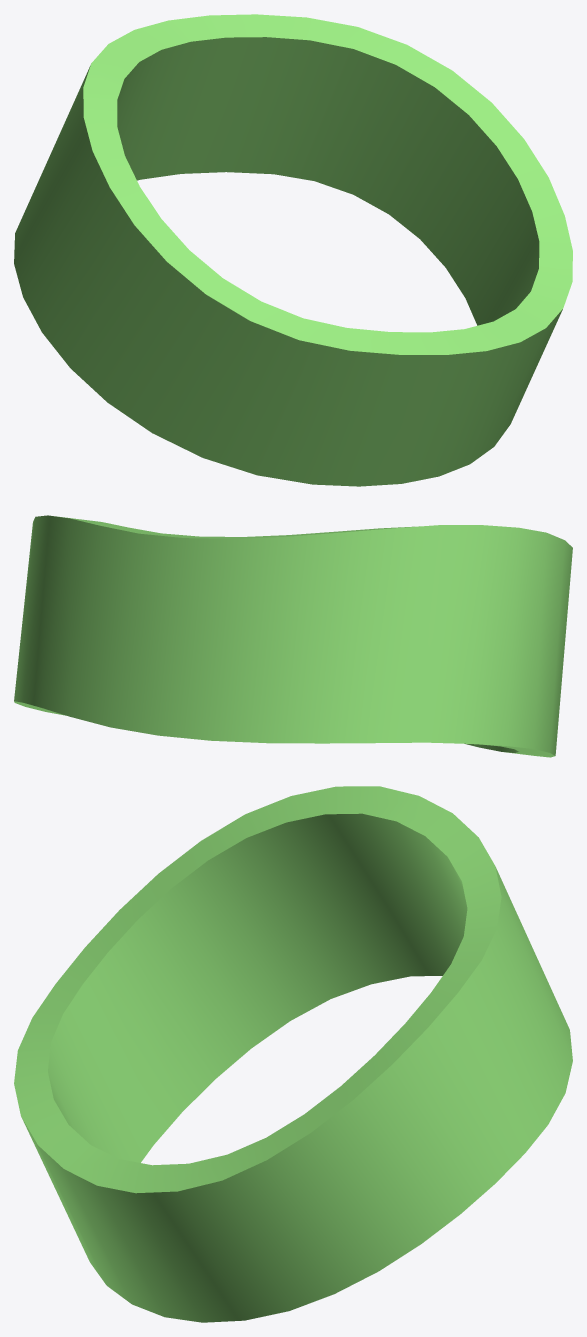
The model's file is Green Onion.fbx.
3 renders of one model, top to bottom at view 1: azimuth 30°, elevation 25°; view 2: azimuth 150°, elevation 25°; view 3: azimuth 270°, elevation 25°, orthographic. The views are drawn at different scales.
Parts seen in each view (by area): view 1: Cylinder.002; view 2: Cylinder.002; view 3: Cylinder.002.
Boxes of the visible parts, <box> form: Cylinder.002: <box>14,14,572,486</box>; Cylinder.002: <box>14,515,572,757</box>; Cylinder.002: <box>14,786,572,1322</box>.
Bounding box in the file's own units: 24.25 × 16.99 × 23.24.
